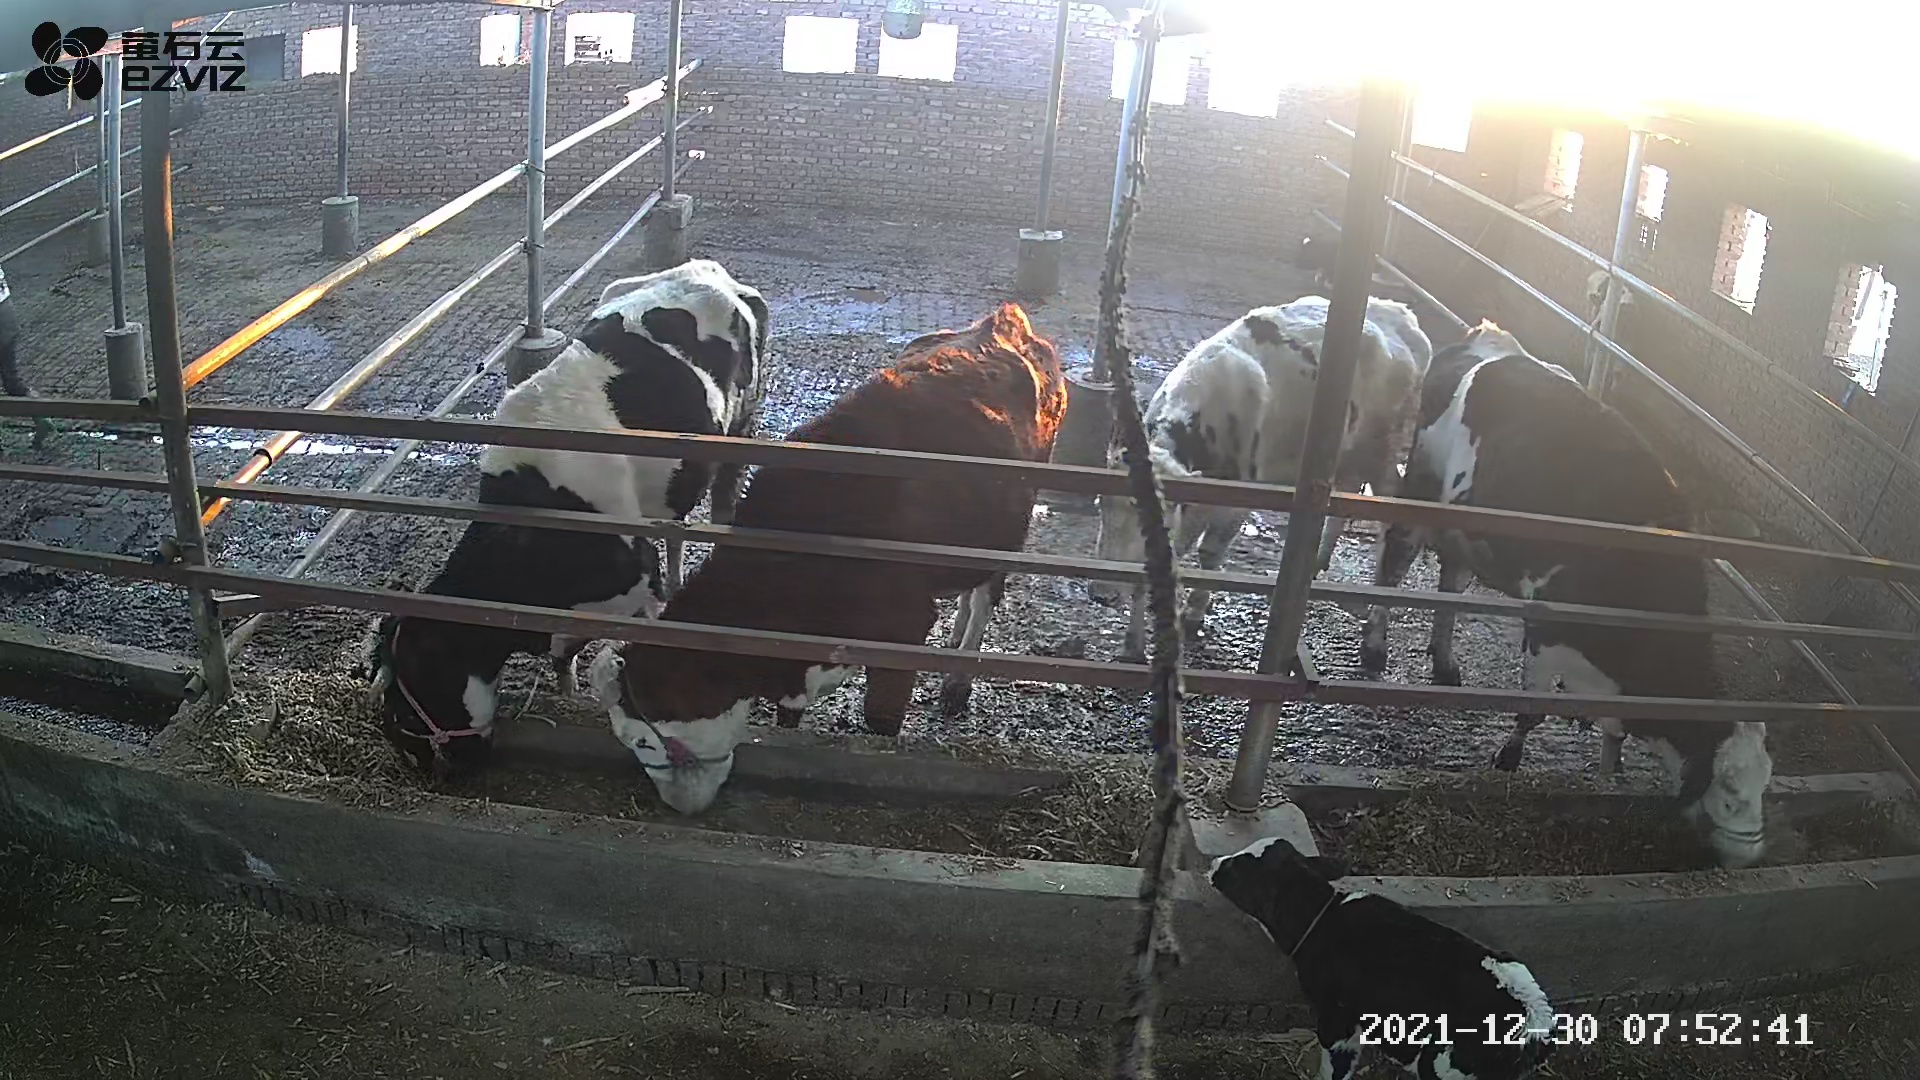cow: (607, 302, 1068, 818), (1360, 313, 1774, 868), (367, 256, 769, 783), (1088, 298, 1432, 662)
